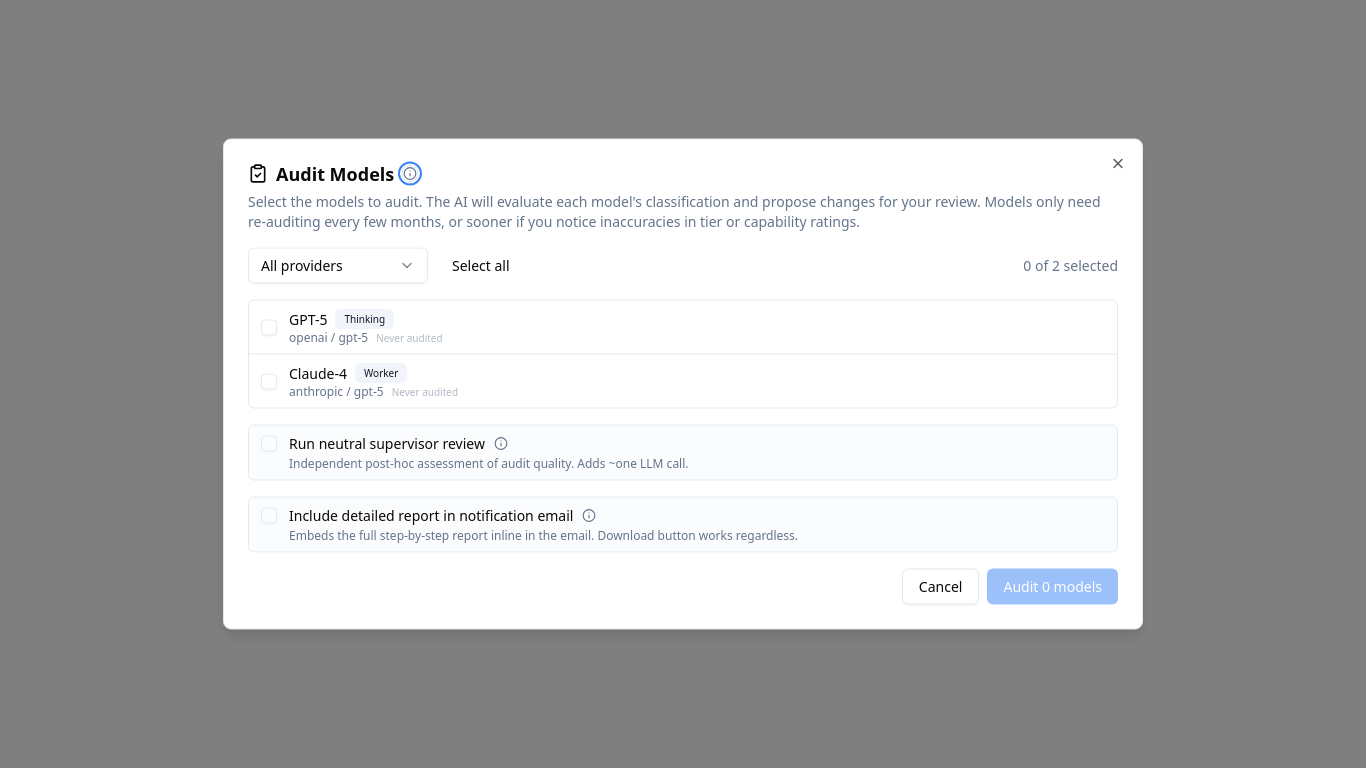
AuditModelsDialog › provider filter › restores all models when "All providers" is selected again
Note: Filter to anthropic first
Click the dropdown at (338, 266), box [248,248,428,284]
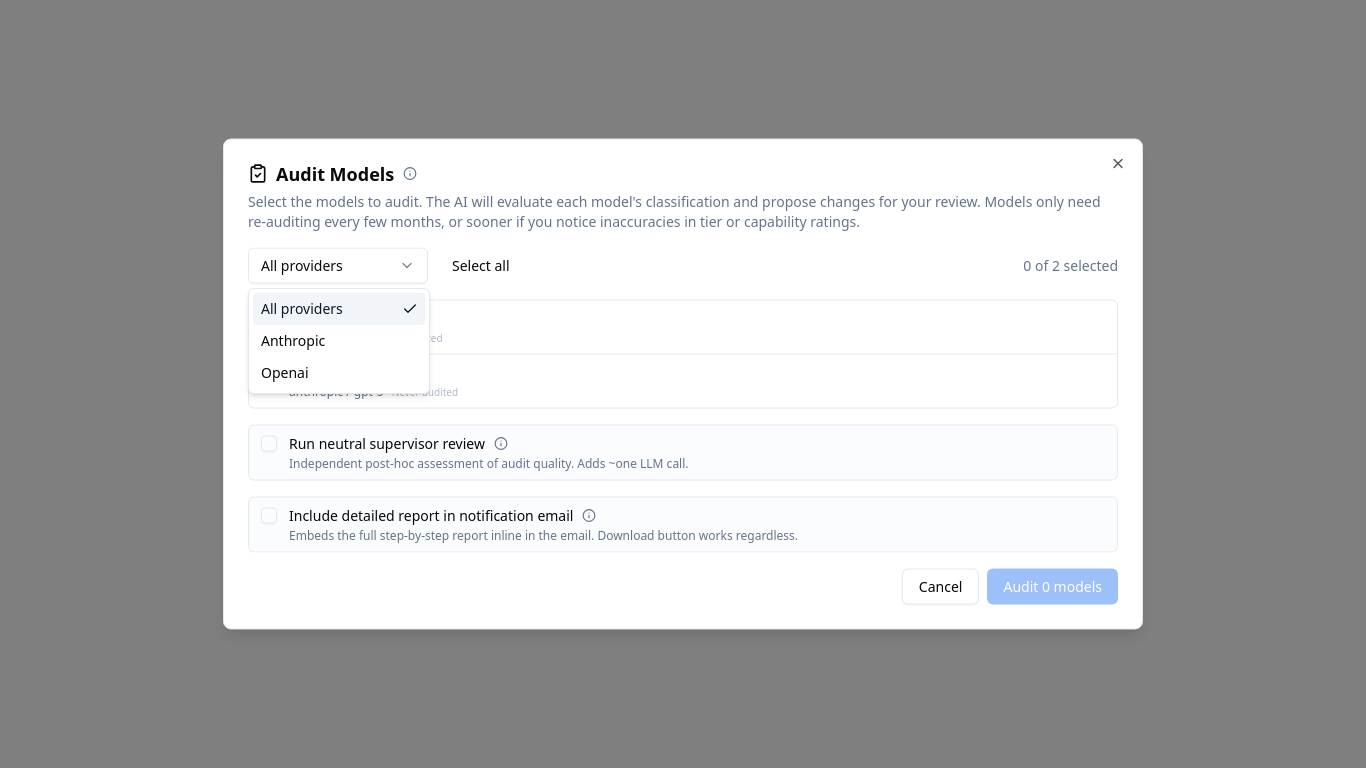
Click the option "anthropic" at (293, 340), box [261,331,325,350]
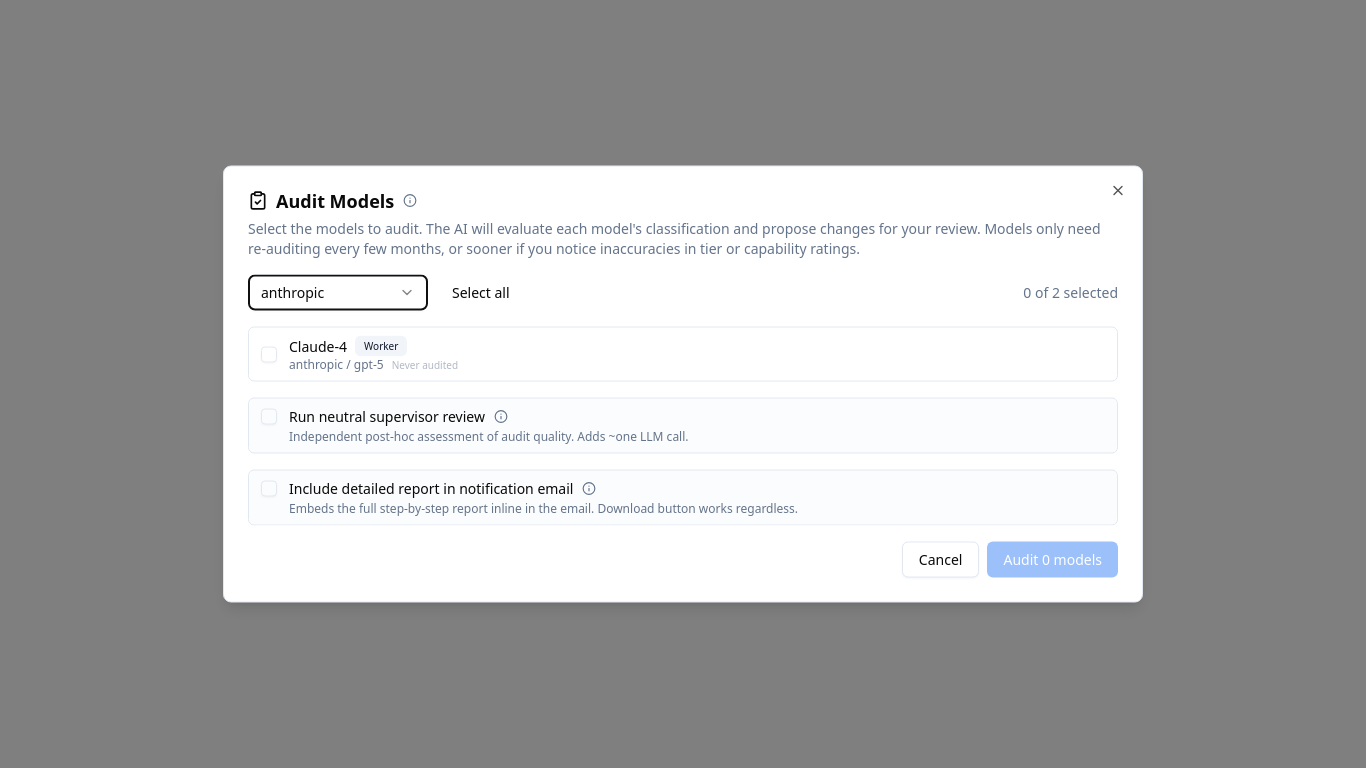
Note: Then go back to "all"
Click the dropdown at (338, 292), box [248,274,428,310]
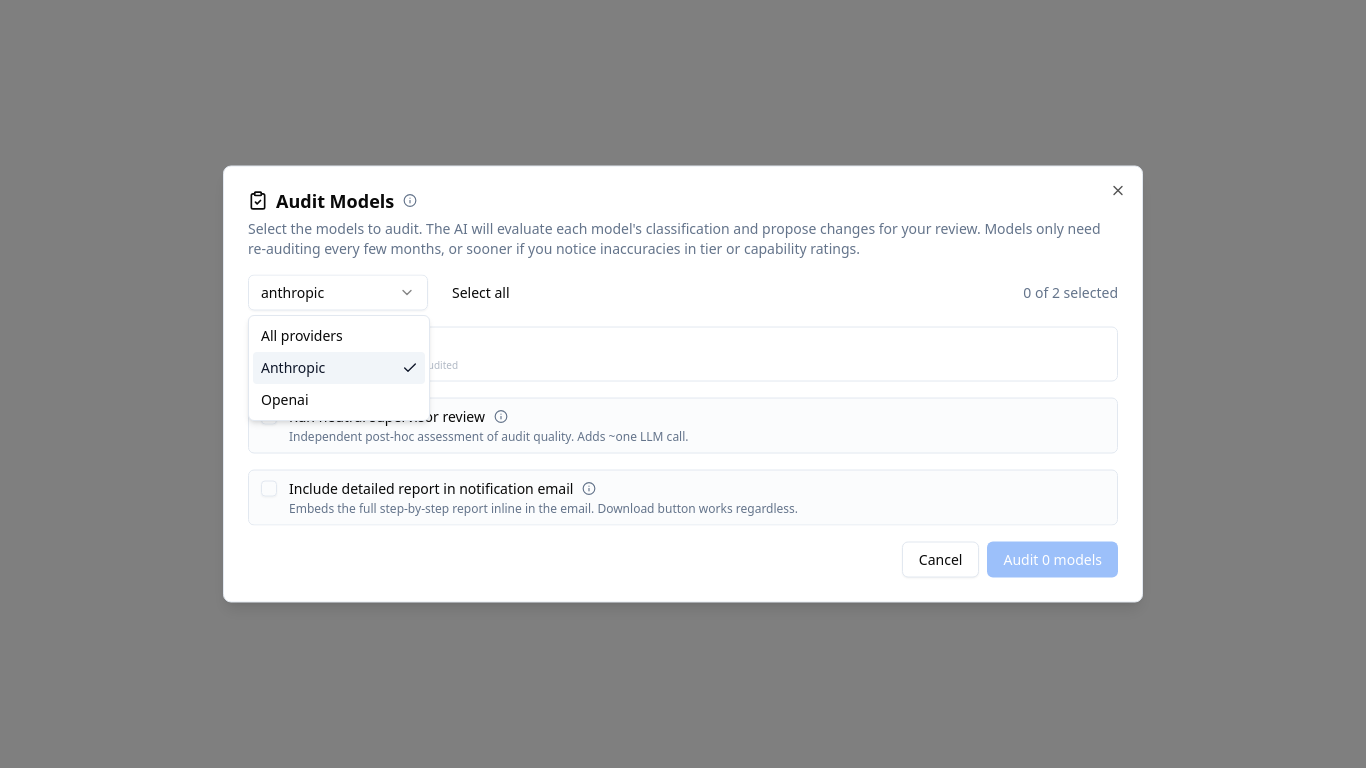
Click the option "All providers" at (302, 336), box [261,326,343,345]
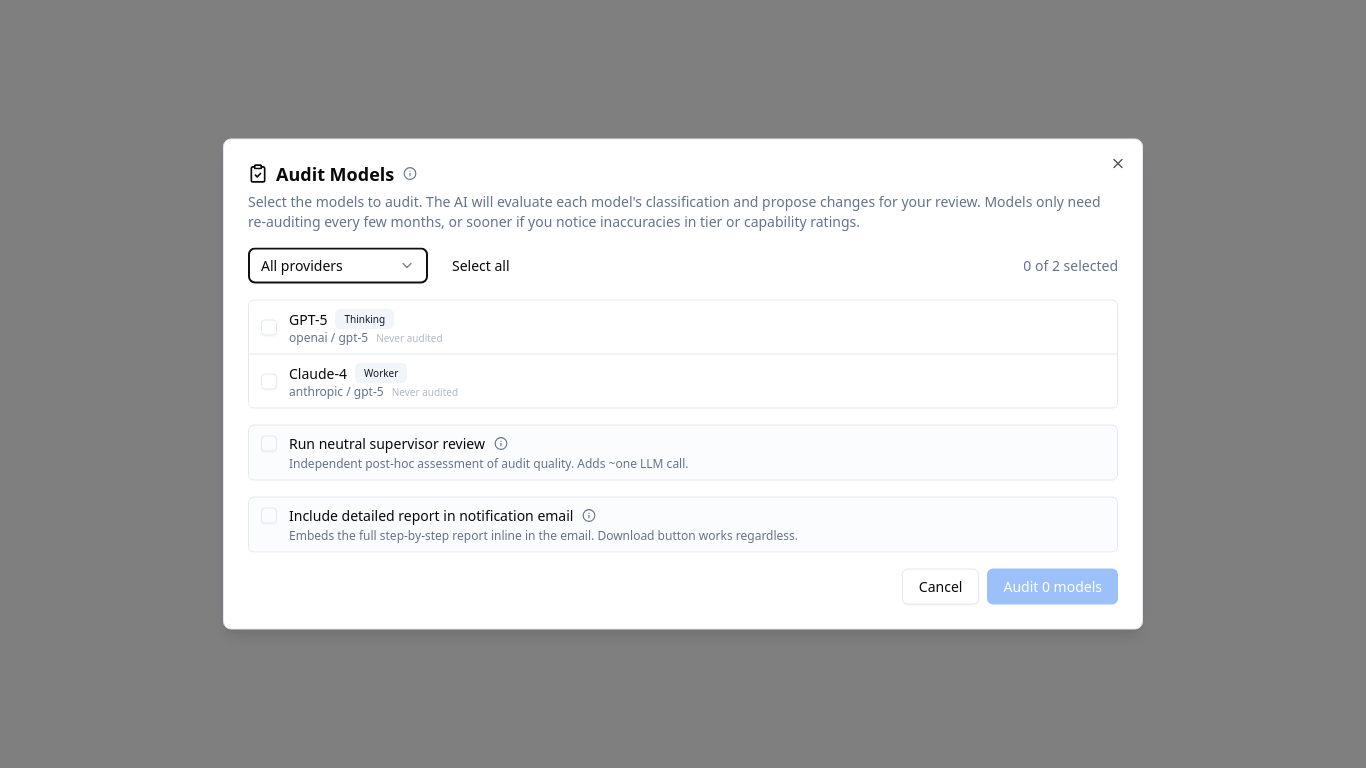
Expected: the text "Claude-4" is shown, [289,363,347,383]
Expected: the text "GPT-5" is shown, [289,309,327,329]
